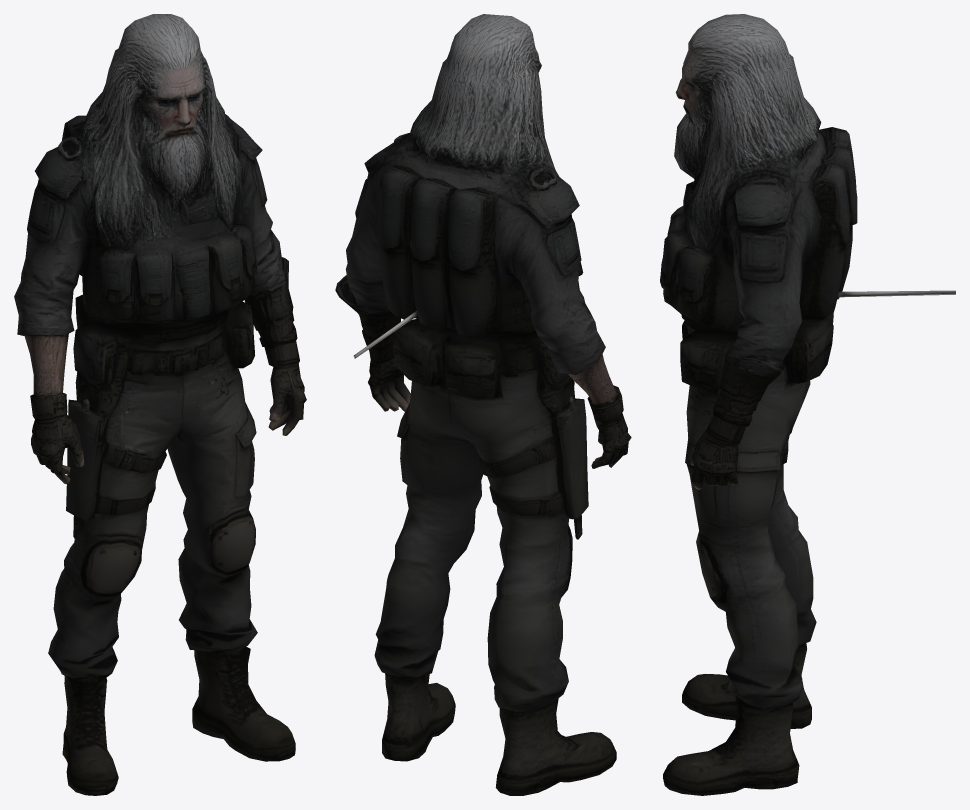
The model's file is 019efabb-efe8-7ce4-ad54-b7bd1443ed03.glb.
The picture shows the model from 3 angles, left to right: view 1: azimuth 30°, elevation 25°; view 2: azimuth 150°, elevation 25°; view 3: azimuth 270°, elevation 25°; orthographic projection.
Parts seen in each view (by area): view 1: tripo_node_cd765a57-2521-400f-94ba-1a0895950a1e; view 2: tripo_node_cd765a57-2521-400f-94ba-1a0895950a1e; view 3: tripo_node_cd765a57-2521-400f-94ba-1a0895950a1e.
Part boxes in pixels (x1,y1,x2,y2): tripo_node_cd765a57-2521-400f-94ba-1a0895950a1e: [14, 14, 306, 795]; tripo_node_cd765a57-2521-400f-94ba-1a0895950a1e: [335, 14, 631, 795]; tripo_node_cd765a57-2521-400f-94ba-1a0895950a1e: [660, 14, 955, 795].
Size of the model in its own units: 0.3809 by 0.998 by 0.3691.
Materials: 1 (1 with a texture image).
